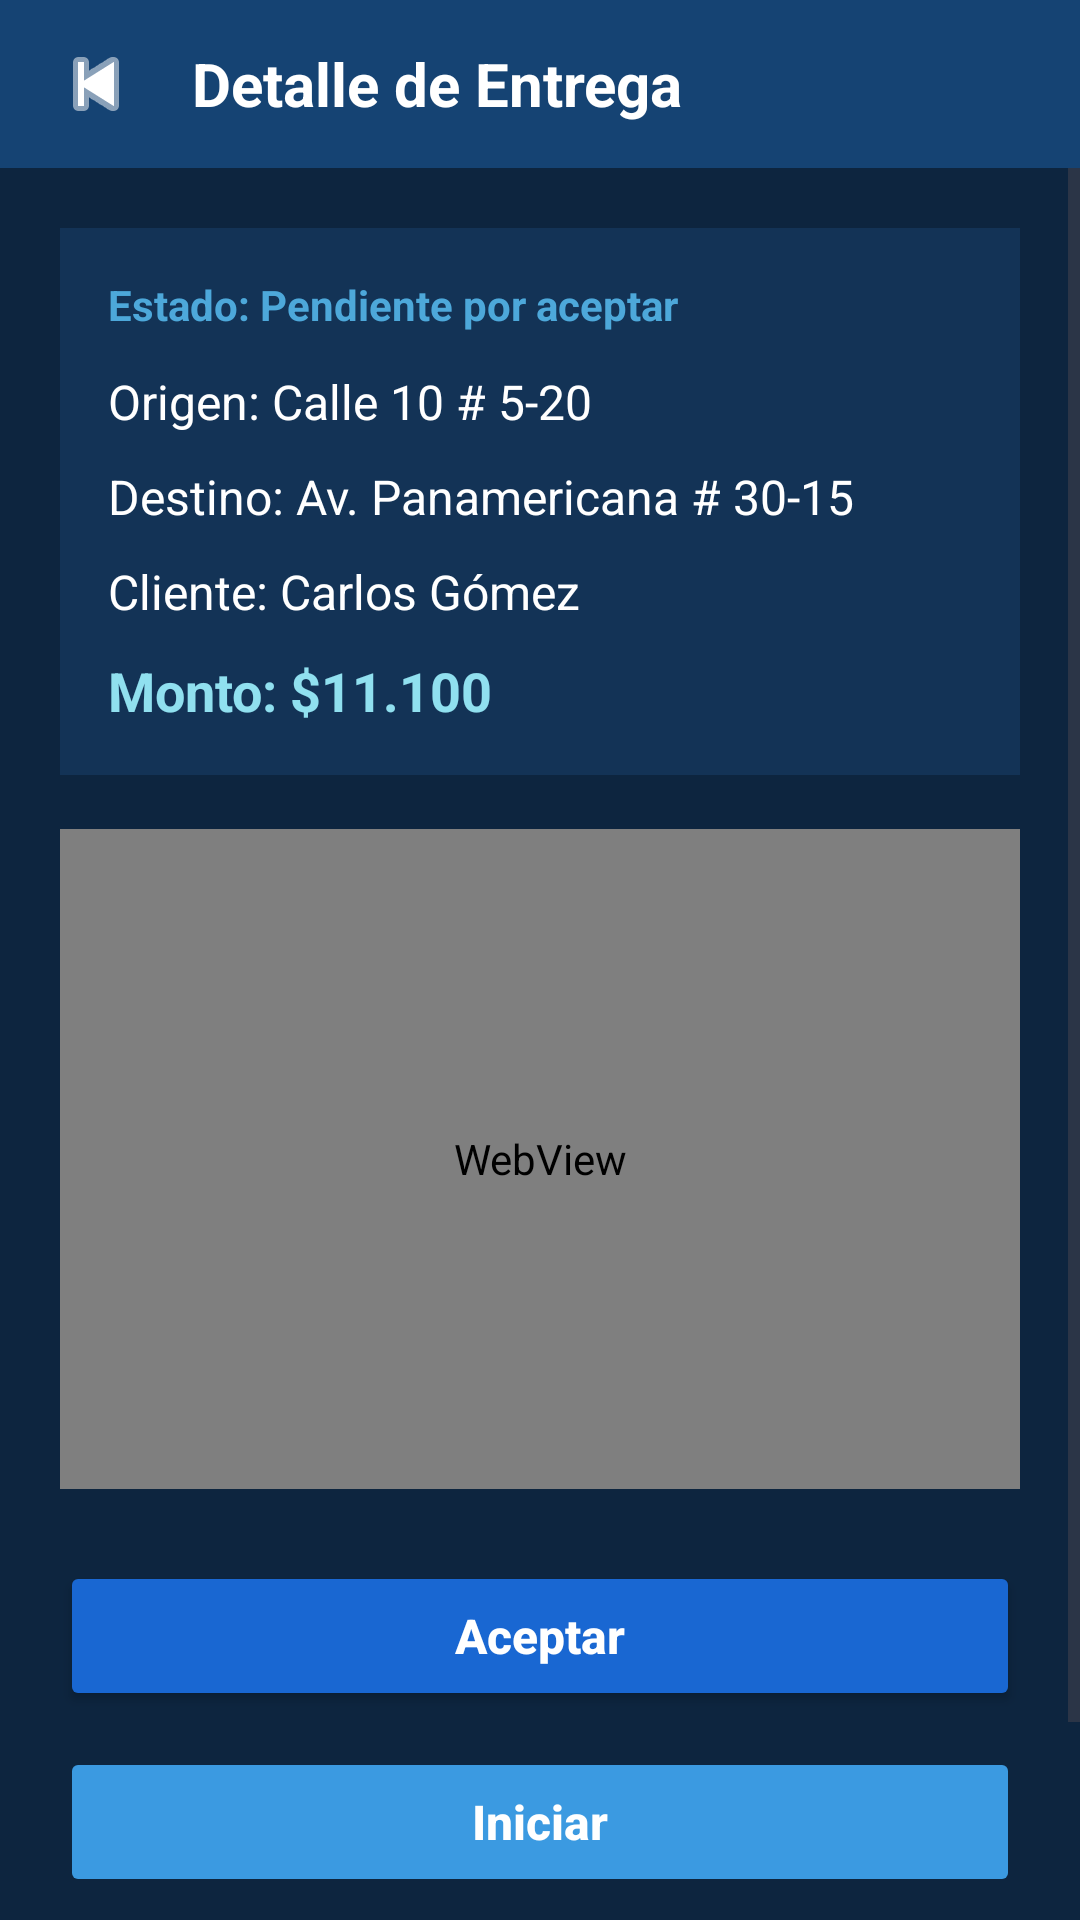

Locate icon controls on the screen. Image size 1080 x 1920, boxes as [x1, y1, x2, y2].
Volver: [73, 57, 119, 111]
